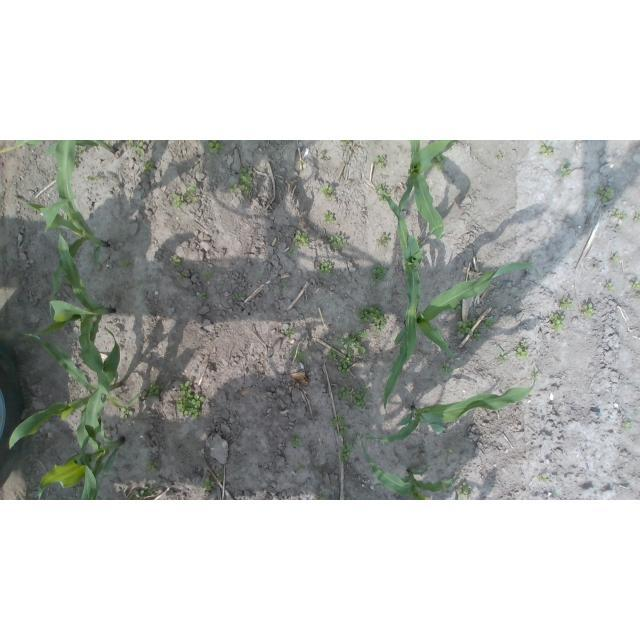Maize: (381, 259, 535, 419), (25, 229, 115, 399), (15, 140, 109, 302), (10, 323, 123, 456), (357, 381, 535, 444), (37, 400, 126, 501), (376, 186, 423, 362), (353, 432, 460, 500), (398, 140, 456, 245), (0, 140, 120, 156)
Weeds: (176, 381, 206, 420), (334, 332, 370, 358), (356, 306, 388, 334), (339, 384, 369, 410), (172, 182, 197, 209), (339, 436, 357, 464), (284, 347, 310, 365), (328, 413, 348, 435), (239, 168, 254, 197), (429, 152, 447, 173), (338, 354, 353, 378), (371, 264, 387, 286), (456, 482, 475, 500), (374, 183, 391, 202), (458, 319, 477, 336), (556, 159, 572, 178), (549, 314, 565, 333), (134, 485, 154, 500), (124, 141, 144, 156), (144, 380, 162, 396), (515, 340, 529, 360), (538, 140, 555, 156), (596, 186, 613, 202), (329, 235, 347, 250), (580, 302, 596, 318), (295, 229, 309, 247), (497, 346, 509, 366), (377, 234, 391, 250), (205, 140, 223, 152), (374, 155, 388, 170), (201, 476, 215, 491), (320, 260, 333, 276), (144, 460, 158, 474), (559, 299, 574, 312), (440, 362, 453, 377), (612, 209, 629, 220), (120, 406, 133, 420), (482, 316, 495, 330), (321, 184, 333, 198), (121, 259, 135, 271), (474, 325, 484, 341), (74, 144, 86, 157), (291, 435, 303, 448), (450, 300, 463, 312), (324, 210, 335, 224), (141, 161, 155, 172), (285, 325, 296, 338), (329, 346, 338, 361), (610, 252, 621, 264), (629, 280, 640, 292), (445, 140, 458, 150), (228, 182, 238, 194), (203, 271, 215, 281), (63, 273, 72, 286), (316, 490, 327, 500), (170, 256, 180, 267), (444, 448, 456, 457), (621, 422, 632, 431), (295, 460, 304, 471), (87, 174, 100, 181), (606, 282, 615, 292), (179, 272, 190, 280), (110, 393, 119, 402), (495, 151, 504, 160), (216, 473, 224, 483), (321, 150, 328, 161), (530, 372, 538, 381), (198, 292, 206, 301), (539, 474, 548, 482), (341, 140, 352, 146), (402, 476, 411, 483), (287, 249, 293, 258), (279, 283, 285, 292), (634, 214, 640, 223), (235, 294, 244, 300), (297, 160, 307, 165), (137, 279, 144, 286), (76, 488, 83, 494), (615, 225, 622, 231), (74, 159, 78, 168), (416, 237, 421, 243), (633, 410, 639, 415), (356, 477, 361, 483), (637, 294, 640, 299), (346, 498, 350, 500)
